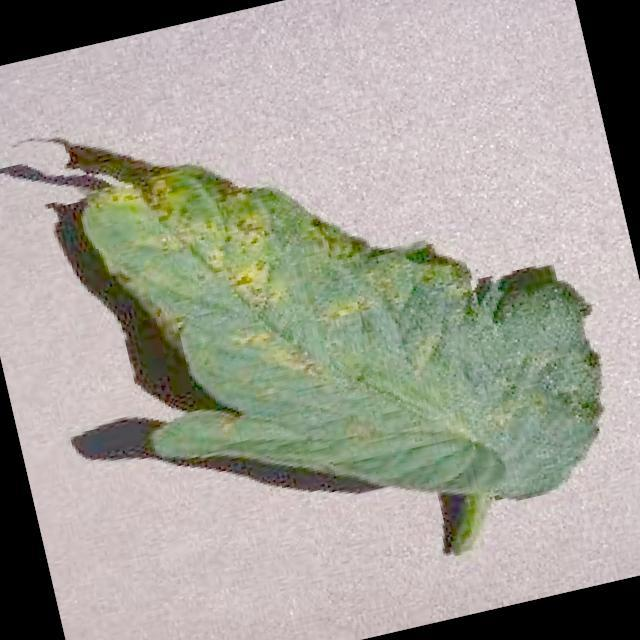Tomato Septoria spot leaf: (60, 22, 625, 574)
